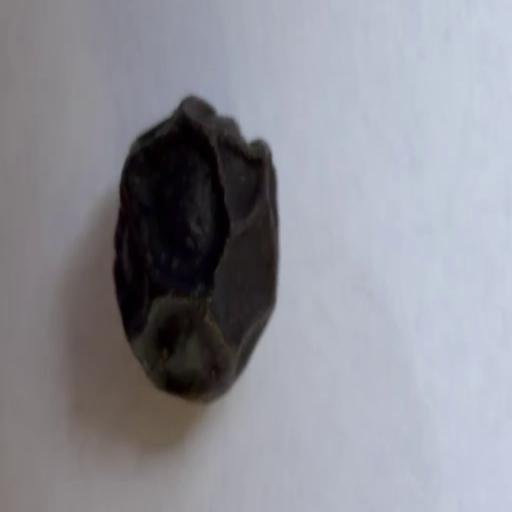Black_pepper: (87, 81, 295, 423)
